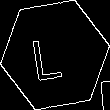L_N: (37, 28, 73, 82)
